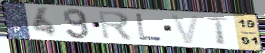4: (30, 6, 60, 39)
9: (62, 7, 92, 41)
L: (135, 13, 164, 43)
R: (96, 9, 135, 42)
T: (205, 16, 233, 47)
V: (168, 13, 202, 45)
